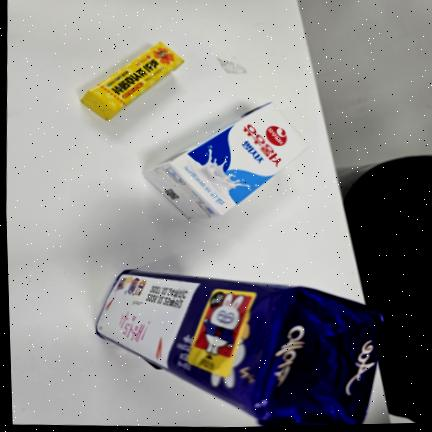cracker_ace: (96, 270, 384, 426)
gum_yellow: (81, 42, 184, 120)
milk_blue: (144, 103, 308, 220)
